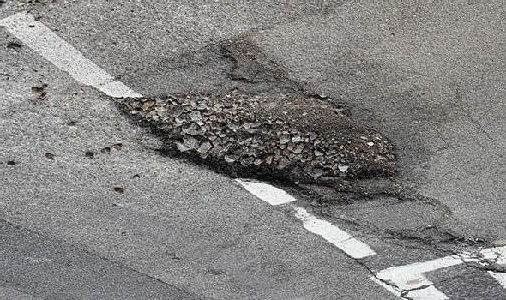pothole: (109, 86, 401, 202), (215, 34, 278, 86), (388, 223, 487, 252)
